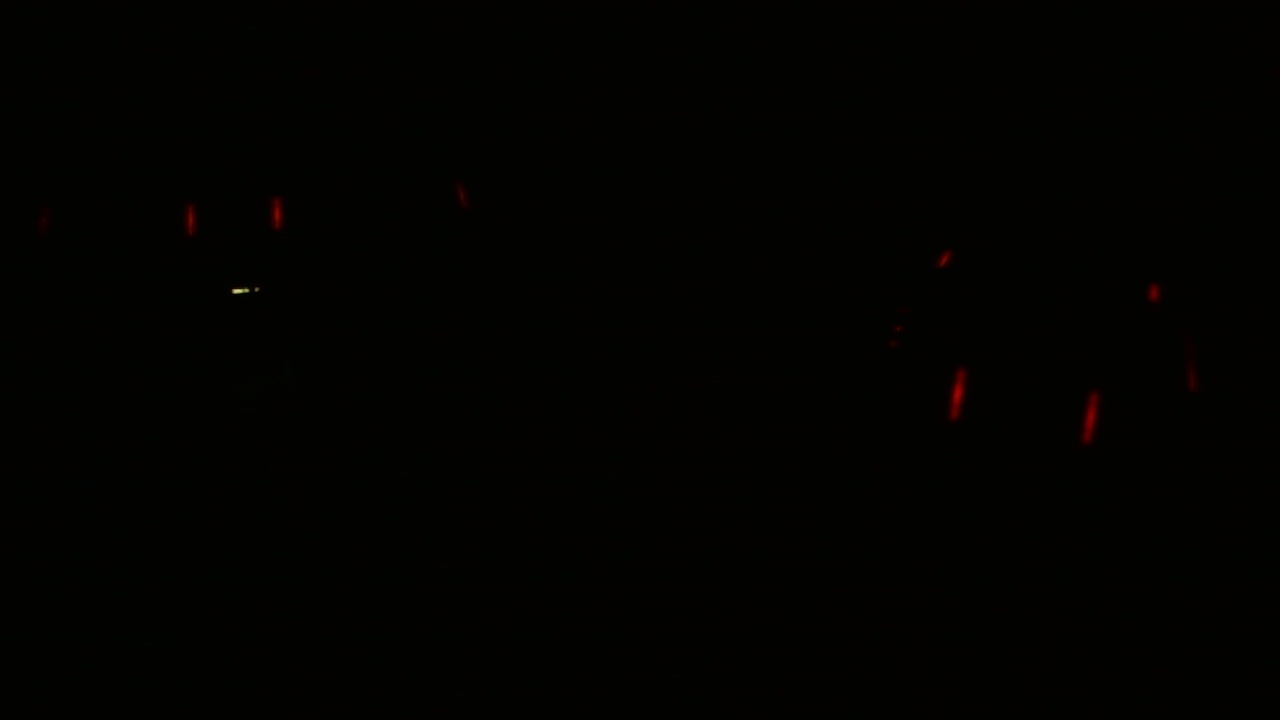pair1: (947, 363, 1100, 448), (185, 197, 290, 234)
